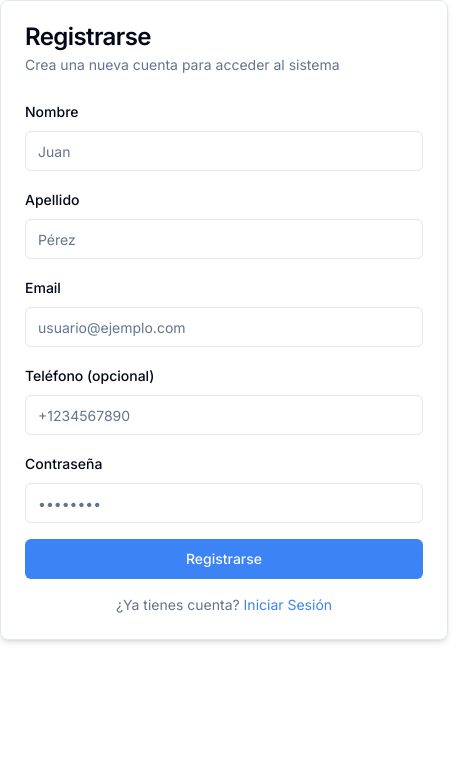
Scenario: RegisterForm › should show validation errors for missing required fields
Click the button "Registrarse": (224, 559) top-left (25, 539), bottom-right (423, 579)
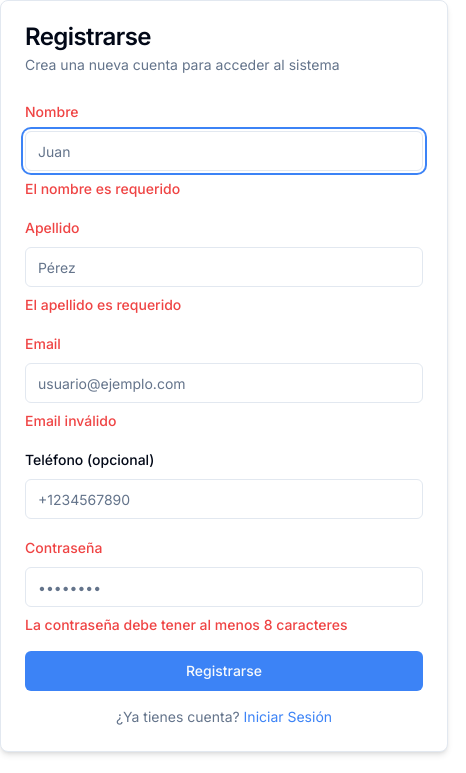
Expected: the text "El nombre es requerido" is shown, top-left (25, 180), bottom-right (180, 197)
